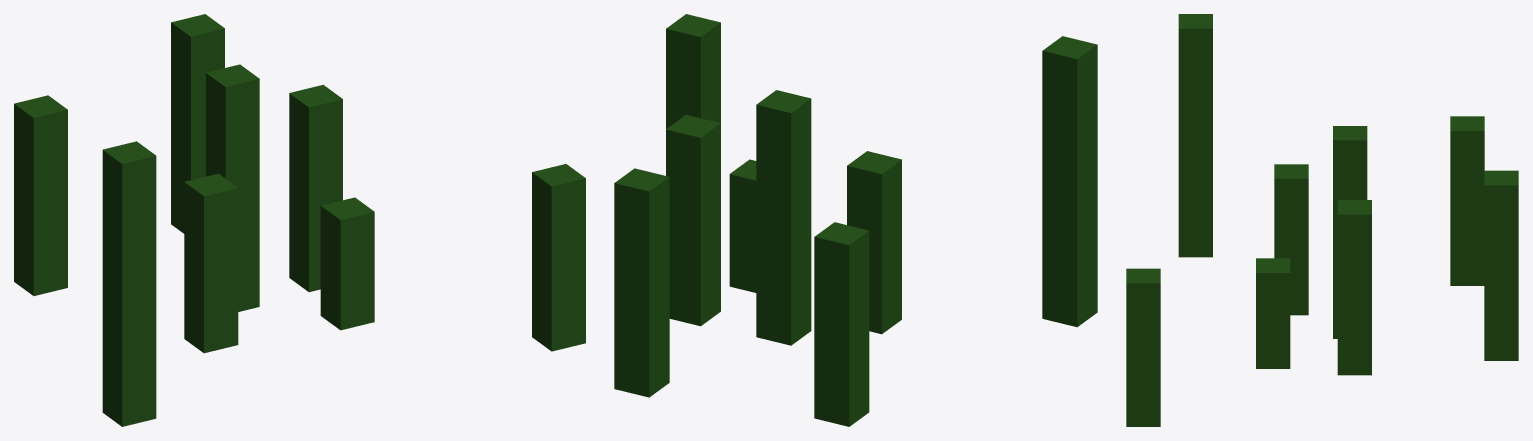
The model's file is grama.fbx.
The picture shows the model from 3 angles, left to right: view 1: azimuth 30°, elevation 25°; view 2: azimuth 150°, elevation 25°; view 3: azimuth 270°, elevation 25°; orthographic projection. The views are drawn at different scales.
Parts seen in each view (by area): view 1: grama; view 2: grama; view 3: grama.
Boxes of the visible parts, bbox=[...] form: grama: bbox=[14, 14, 585, 426]; grama: bbox=[614, 14, 1097, 426]; grama: bbox=[1126, 14, 1518, 426].
Size of the model in its own units: 394 by 228 by 355.
